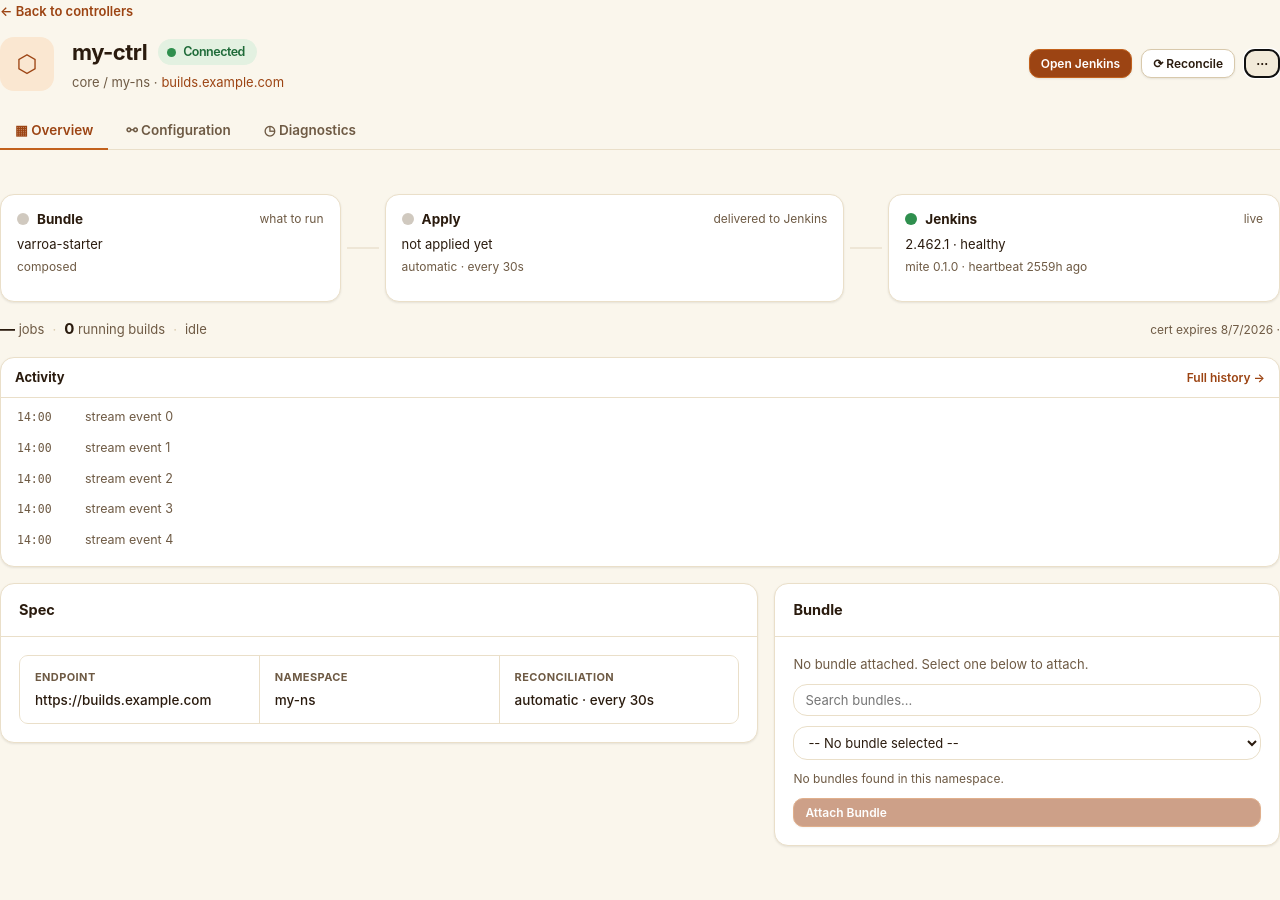
ControllerDetail — Diagnostics panels (8.2) › caps the merged stream at 500 entries (documented browser buffer), not 400
Click the tab "◷ Diagnostics". click: (310, 131)
box: [249,112,371,150]
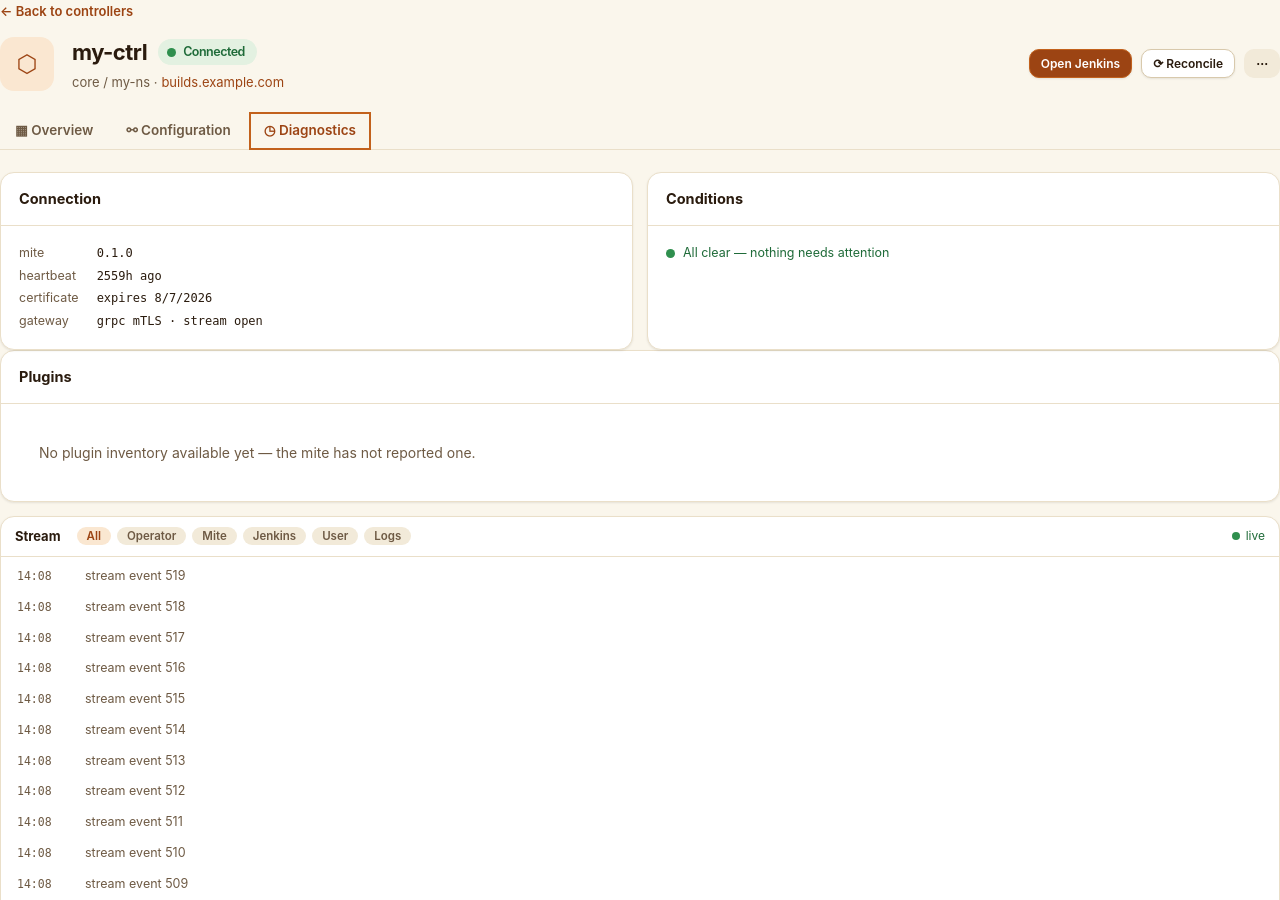
Now the text "stream event 519" is shown 500 times
